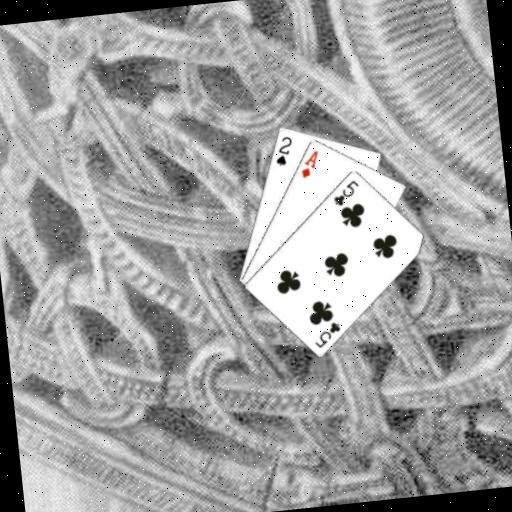2S: (271, 133, 296, 168)
5C: (309, 318, 344, 350), (329, 176, 362, 208)
AD: (295, 146, 322, 180)
